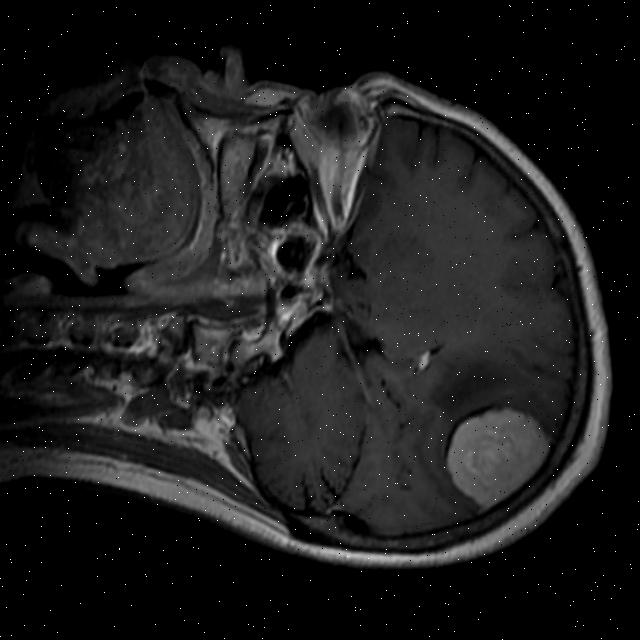Meningioma: (431, 390, 558, 522)
